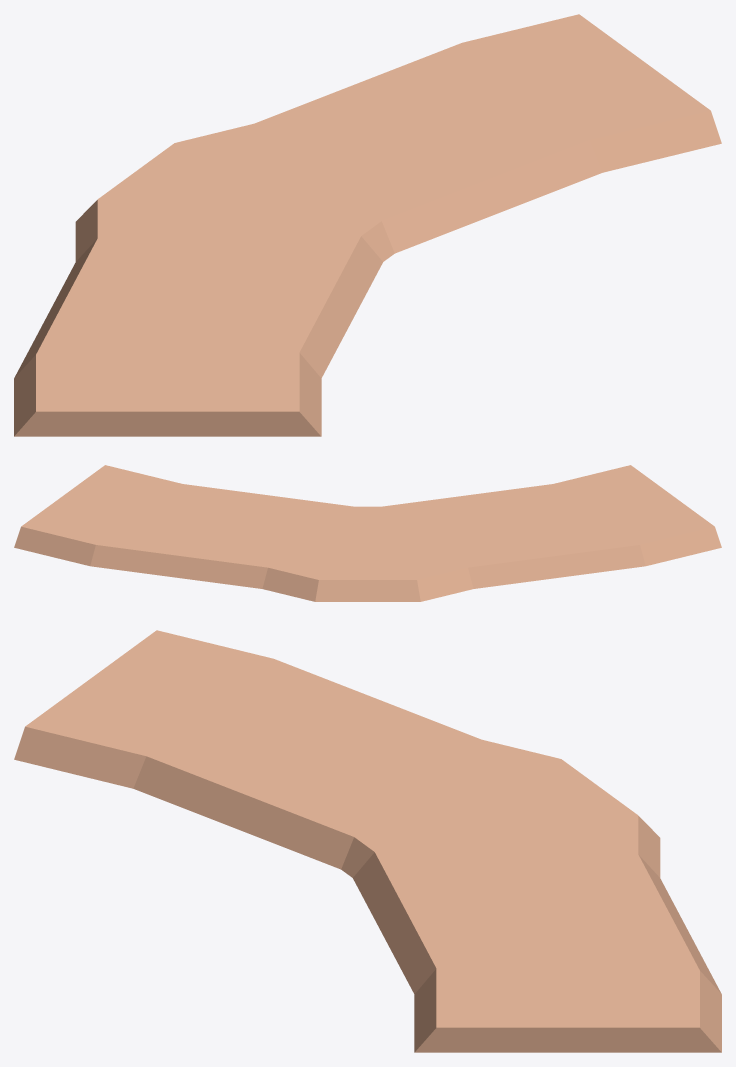
File: path_corner.glb
3 views of the same model, one above another, from view 1: azimuth 30°, elevation 25°; view 2: azimuth 150°, elevation 25°; view 3: azimuth 270°, elevation 25° (orthographic). The views are drawn at different scales.
Parts seen in each view (by area): view 1: path_corner; view 2: path_corner; view 3: path_corner.
Boxes of the visible parts, box(x1,y1,x2,y2) form: path_corner: box(14, 14, 721, 436); path_corner: box(14, 465, 721, 601); path_corner: box(14, 630, 721, 1052).
Bounding box in the file's own units: 0.8708 × 0.025 × 0.6423.
